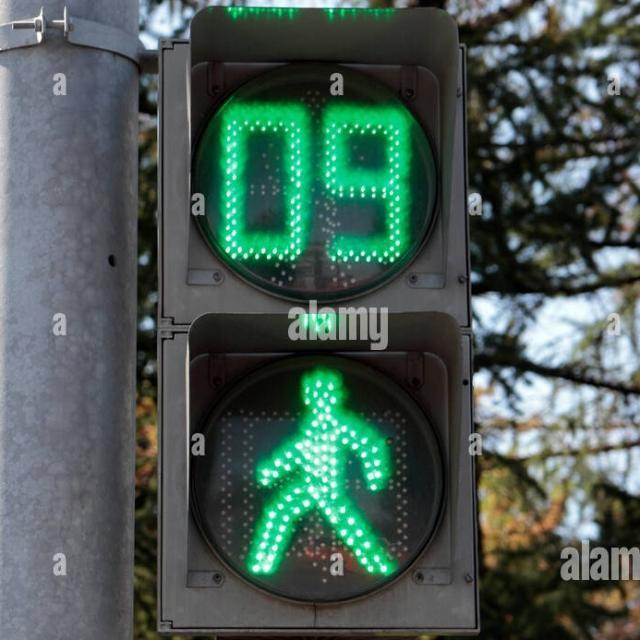geen-crossing: (233, 357, 408, 586)
